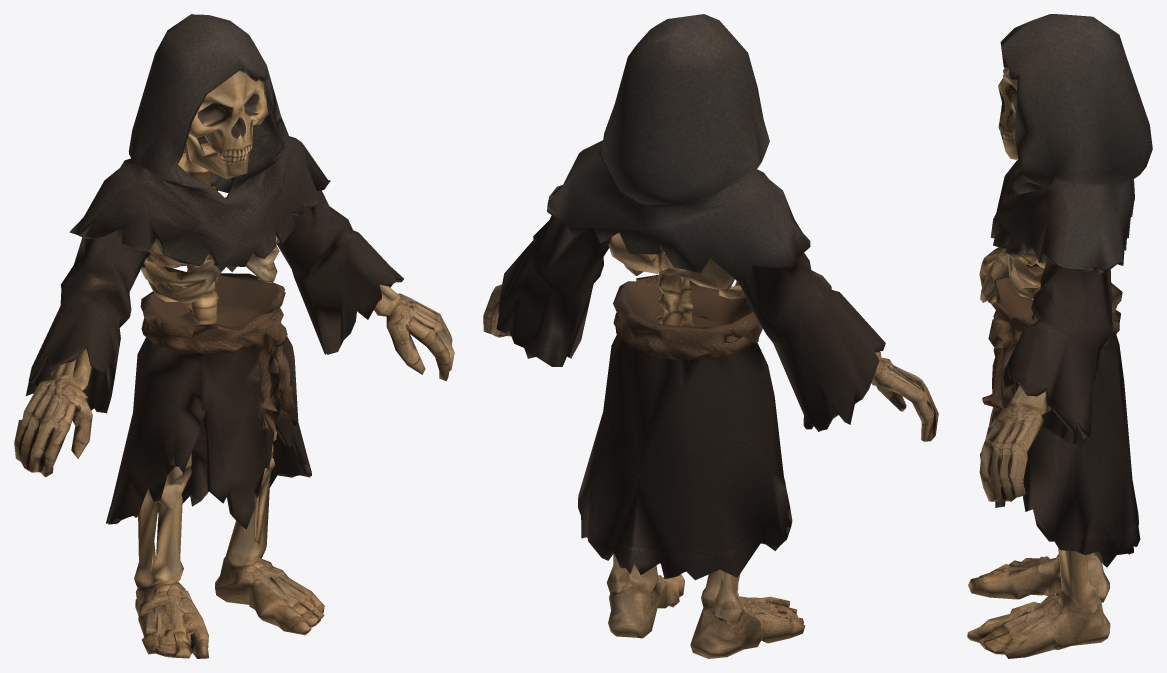
Rendered from MWT_SK_Shroud.fbx.
The picture shows the model from 3 angles, left to right: view 1: azimuth 30°, elevation 25°; view 2: azimuth 150°, elevation 25°; view 3: azimuth 270°, elevation 25°; orthographic projection. The views are drawn at different scales.
Parts seen in each view (by area): view 1: Mesh_0; view 2: Mesh_0; view 3: Mesh_0.
Boxes of the visible parts, box(x1,y1,x2,y2) form: Mesh_0: box(14, 14, 454, 658); Mesh_0: box(483, 14, 938, 658); Mesh_0: box(967, 14, 1152, 658).
Size of the model in its own units: 153 by 200 by 55.94.
Materials: 1 (1 with a texture image).
